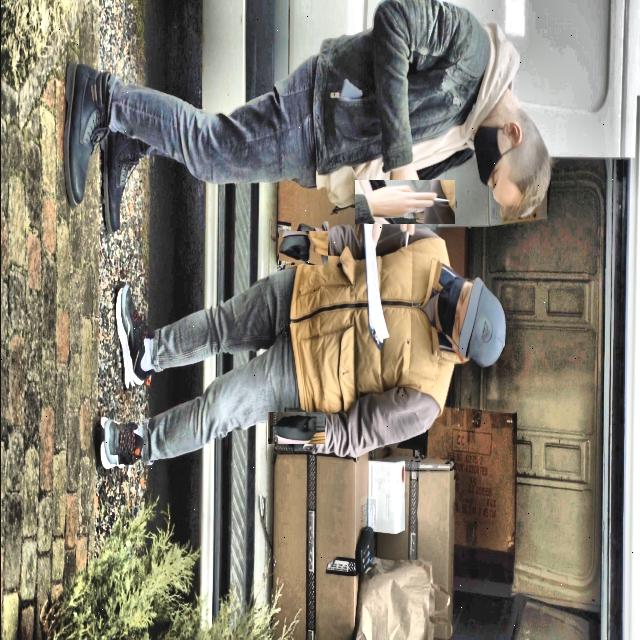gloved: (368, 166, 440, 238), (273, 405, 318, 450), (282, 227, 324, 269)
